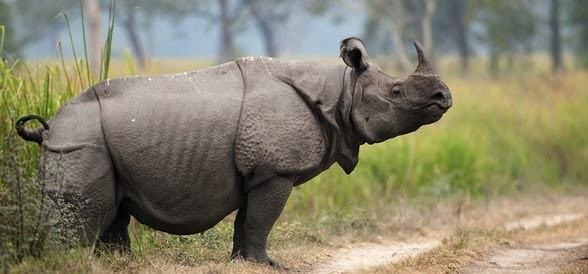rhinoceros: (21, 47, 449, 250)
